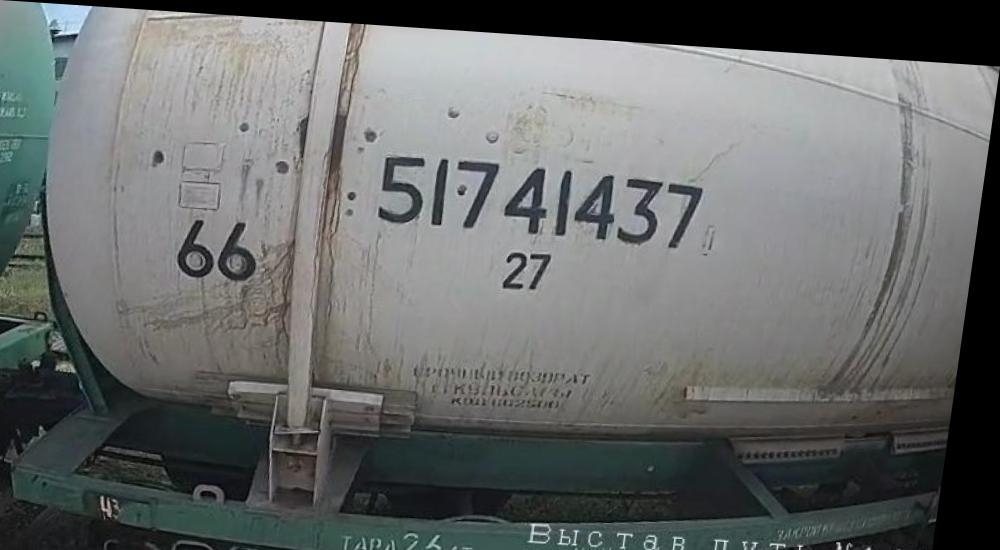Wagon-number: (373, 142, 717, 248)
